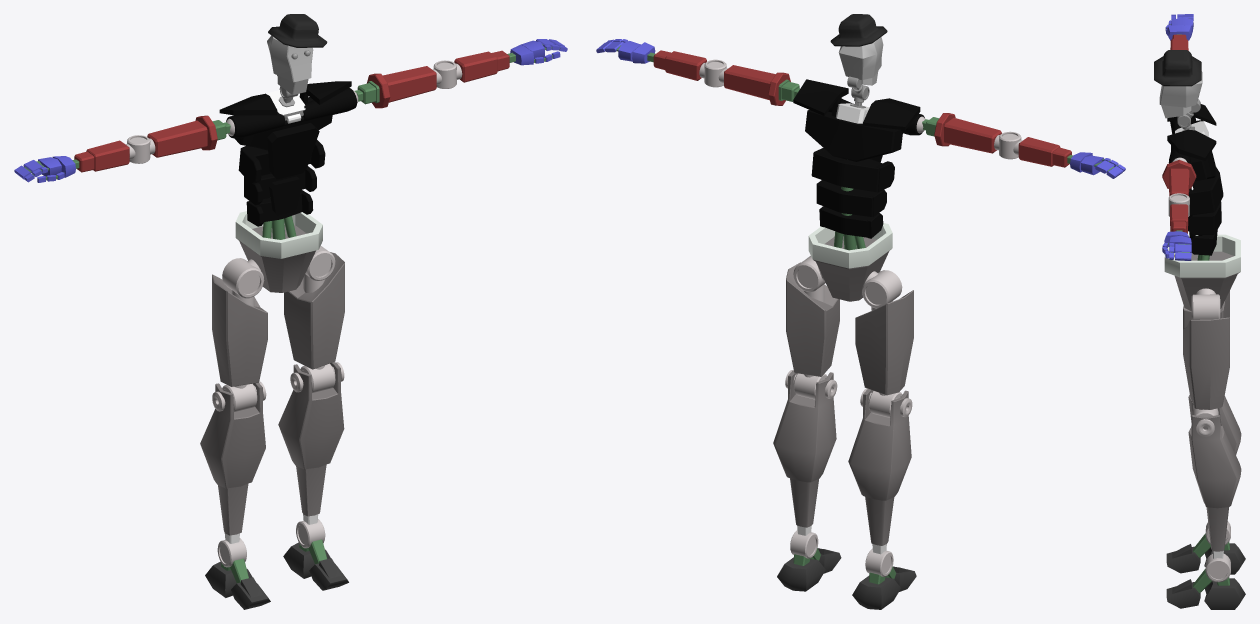
The model's file is textured timmy.fbx.
The picture shows the model from 3 angles, left to right: view 1: azimuth 30°, elevation 25°; view 2: azimuth 150°, elevation 25°; view 3: azimuth 270°, elevation 25°; orthographic projection. The views are drawn at different scales.
Parts seen in each view (by area): view 1: hands1_pCube31; view 2: hands1_pCube31; view 3: hands1_pCube31.
Part boxes in pixels (x1,y1,x2,y2): hands1_pCube31: (14,14,567,609); hands1_pCube31: (596,14,1125,609); hands1_pCube31: (1154,14,1245,609).
Bounding box in the file's own units: 24.99 × 25.69 × 3.98.
